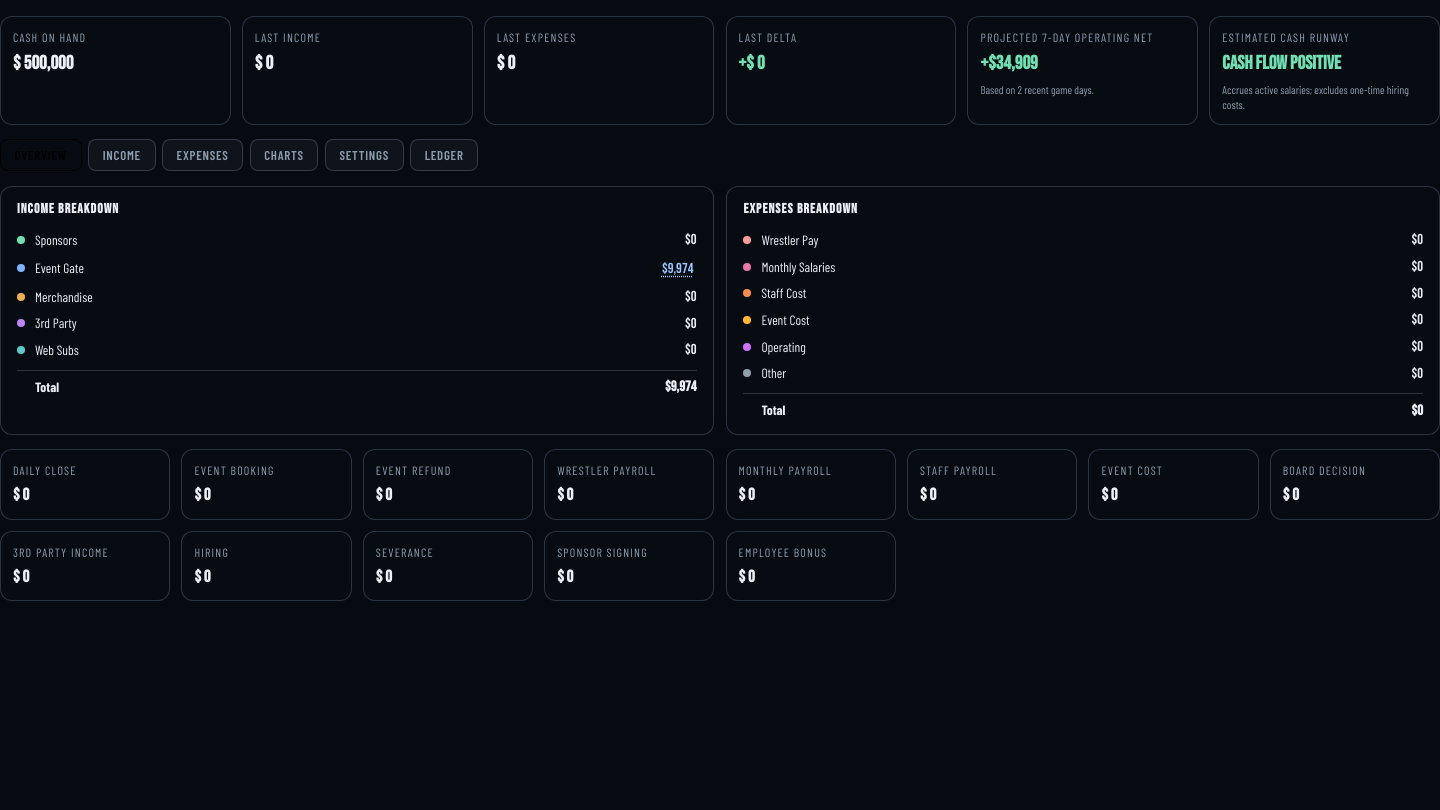
Scenario: ManageFinancesModule event gate breakdown › opens all individual event details belonging to a monthly Event Gate amount
Click the button "Income". click: (122, 155)
box: [88,139,156,171]
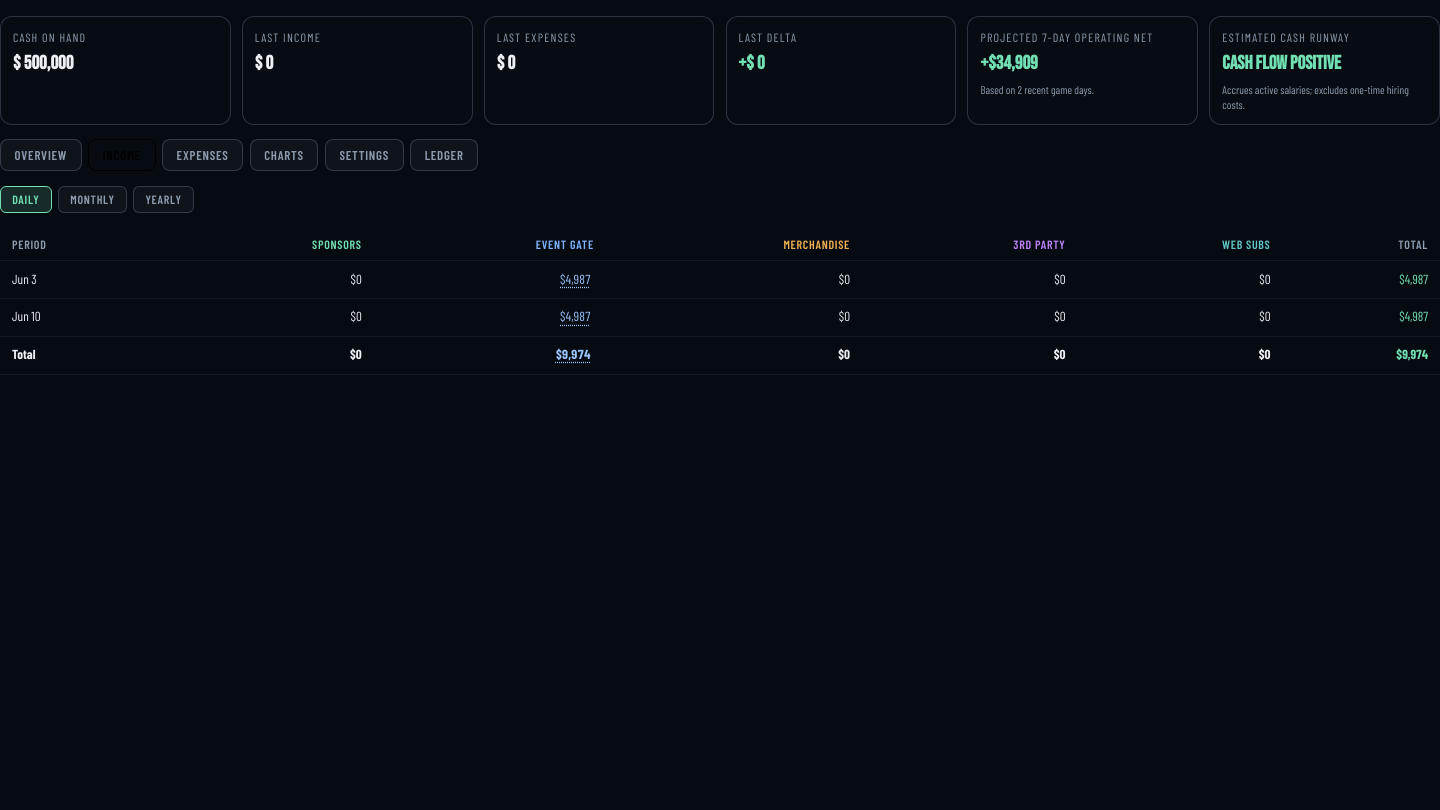
Click the button "Monthly". click: (92, 199)
box: [58,186,127,213]
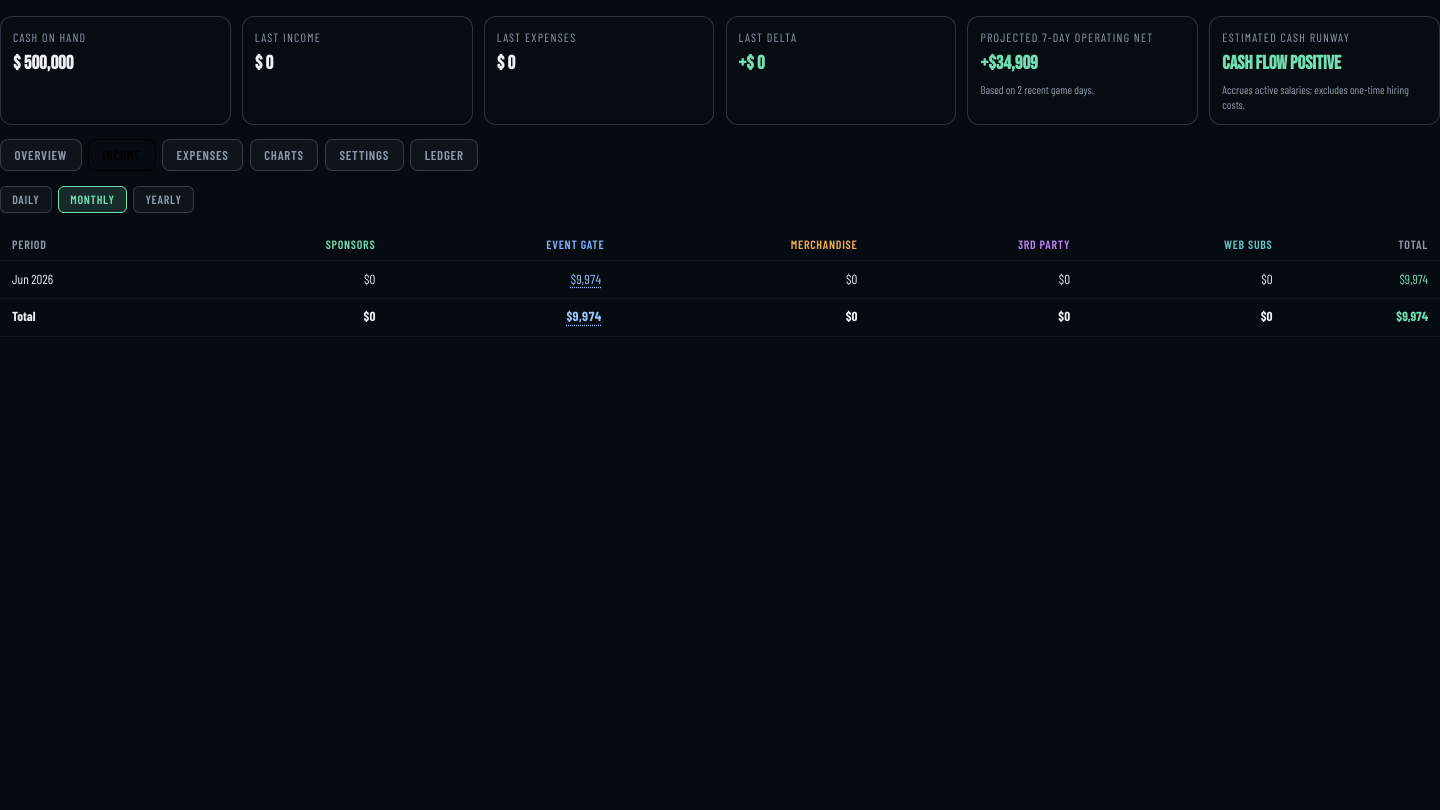
Click the button "$9,974" in the row of "Jun 2026". click: (586, 279)
box: [568,269,604,290]
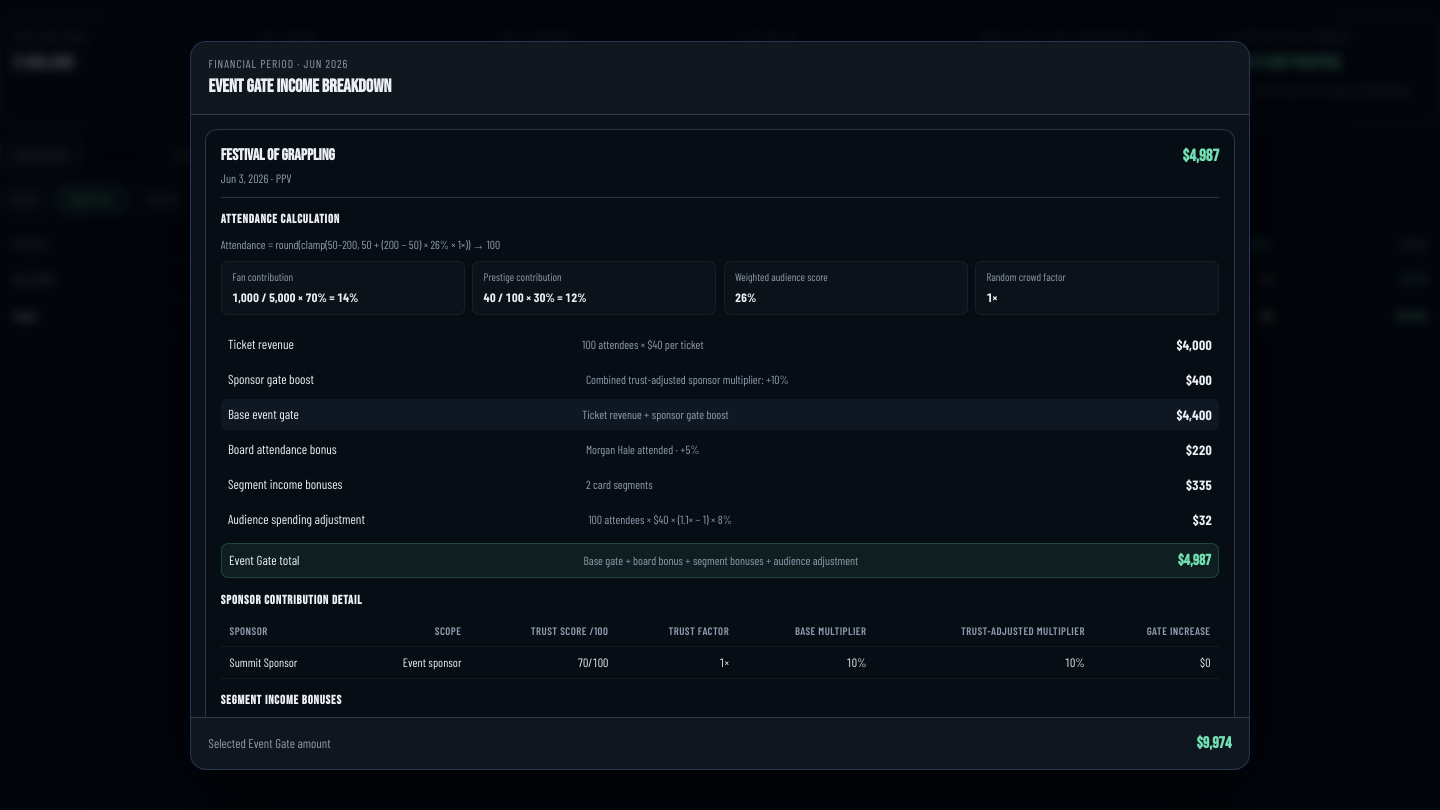
Result: the heading "Festival of Grappling" is shown at [221,145,335,166]
Result: the text "Festival of Grappling" shows "$4,987" at [1182,146,1219,166]
Result: the text "$9,974" is shown at [1196,732,1231,754]
